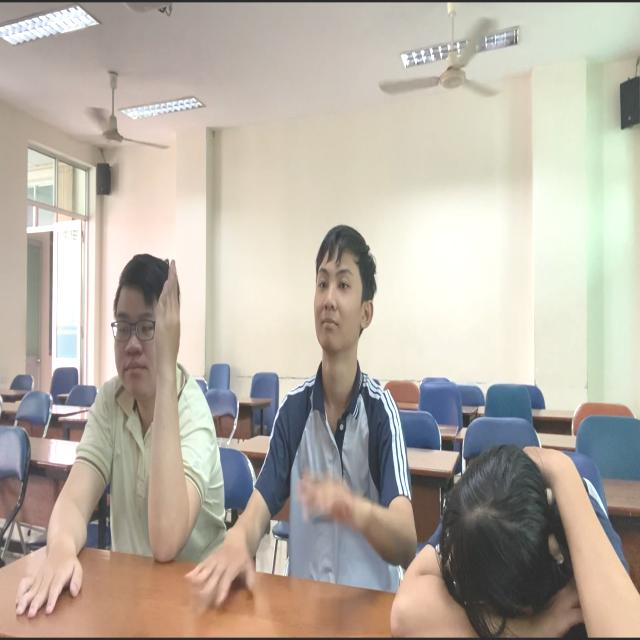raise_hand: (55, 233, 229, 588)
sleep: (386, 427, 640, 640)
